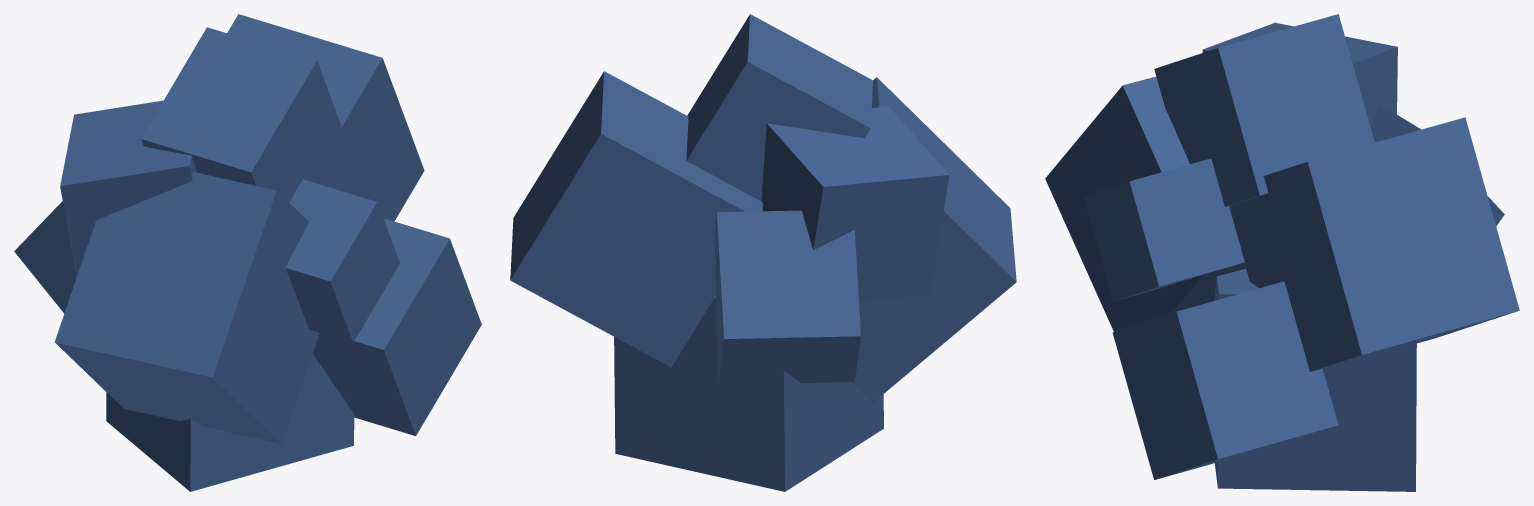
Rendered from tree-winter-leaves-015.glb.
3 renders of one model, left to right at view 1: azimuth 30°, elevation 25°; view 2: azimuth 150°, elevation 25°; view 3: azimuth 270°, elevation 25°, orthographic. The views are drawn at different scales.
Visible parts, largest first — view 1: Cube.057_142; view 2: Cube.057_142; view 3: Cube.057_142.
Boxes of the visible parts, x1,y1,x2,y2 form: Cube.057_142: (14,14,481,491); Cube.057_142: (510,14,1016,491); Cube.057_142: (1045,14,1519,491).
Size of the model in its own units: 1.31 by 1.13 by 1.14.
